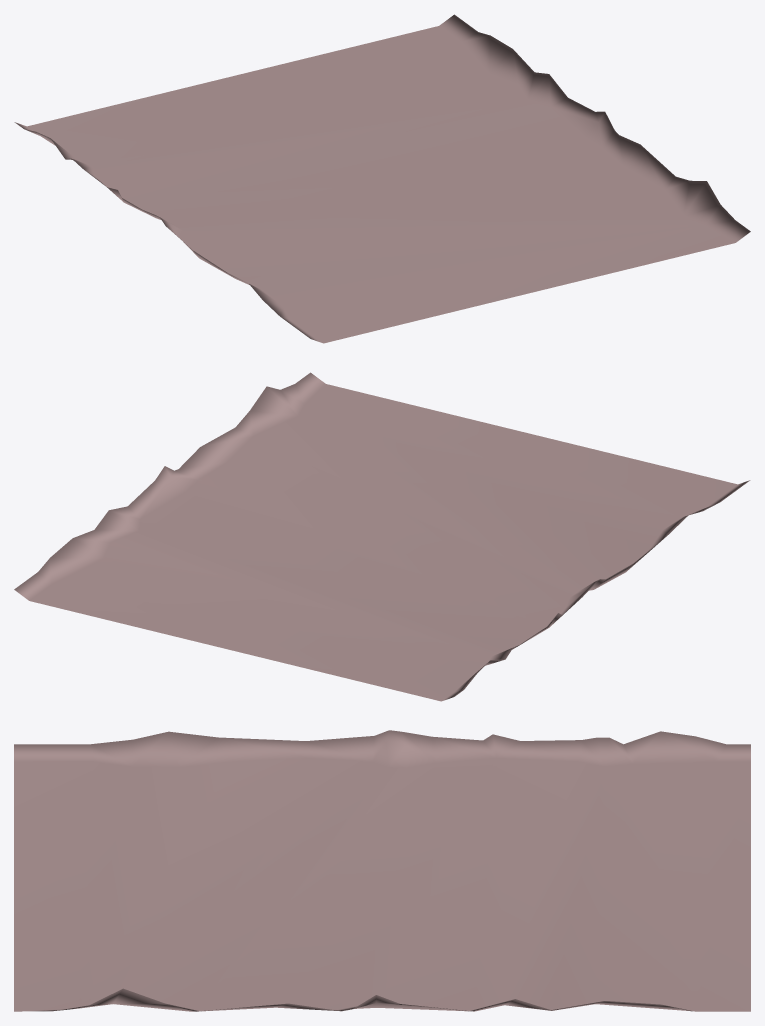
The model's file is SM_ENV_Tree_StoneBridge_6m_01.fbx.
3 renders of one model, top to bottom at view 1: azimuth 30°, elevation 25°; view 2: azimuth 150°, elevation 25°; view 3: azimuth 270°, elevation 25°, orthographic. The views are drawn at different scales.
Visible parts, largest first — view 1: SM_ENV_Tree_StoneBridge_6m_01; view 2: SM_ENV_Tree_StoneBridge_6m_01; view 3: SM_ENV_Tree_StoneBridge_6m_01.
Boxes of the visible parts, x1,y1,x2,y2 form: SM_ENV_Tree_StoneBridge_6m_01: [14, 14, 750, 343]; SM_ENV_Tree_StoneBridge_6m_01: [14, 372, 750, 701]; SM_ENV_Tree_StoneBridge_6m_01: [14, 730, 750, 1011].
Bounding box in the file's own units: 600 × 33.79 × 700.
